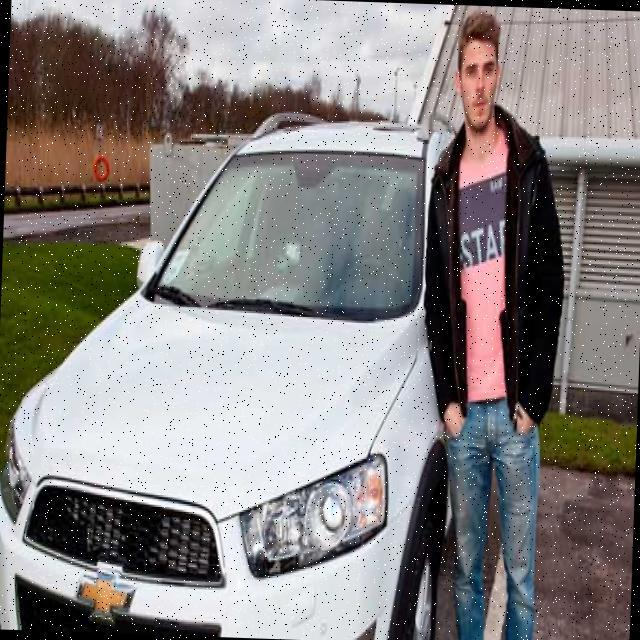Chevrolet: (75, 561, 136, 624)
